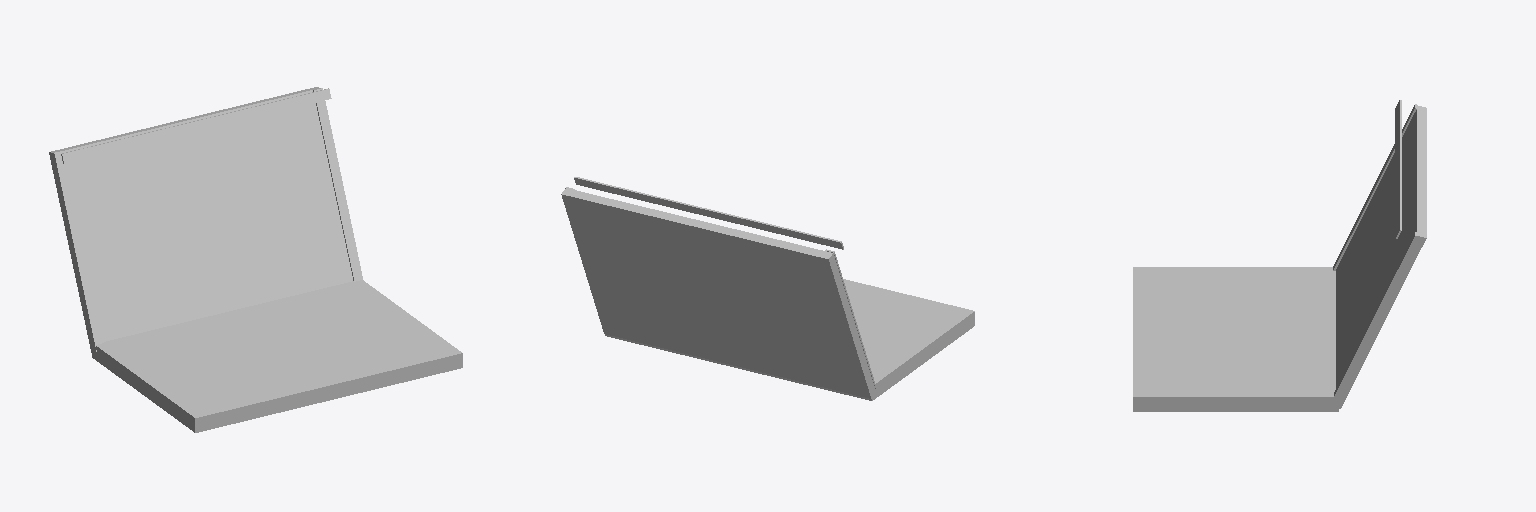
The model's file is Laptop-Merged.obj.
3 views of the same model, side by side, from view 1: azimuth 30°, elevation 25°; view 2: azimuth 150°, elevation 25°; view 3: azimuth 270°, elevation 25° (orthographic).
Visible parts, largest first — view 1: Laptop-Merged; view 2: Laptop-Merged; view 3: Laptop-Merged.
Part boxes in pixels (left/top/right/bottom): Laptop-Merged: left=49, top=87, right=462, bottom=432; Laptop-Merged: left=561, top=177, right=974, bottom=400; Laptop-Merged: left=1133, top=100, right=1426, bottom=411.
Size of the model in its own units: 1.51 by 0.9749 by 1.42.